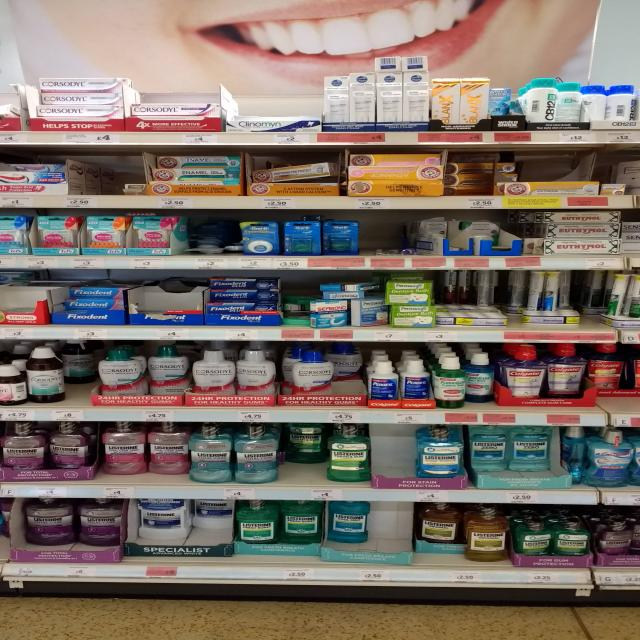void: (374, 502, 421, 563), (374, 425, 415, 486), (68, 149, 118, 195)
